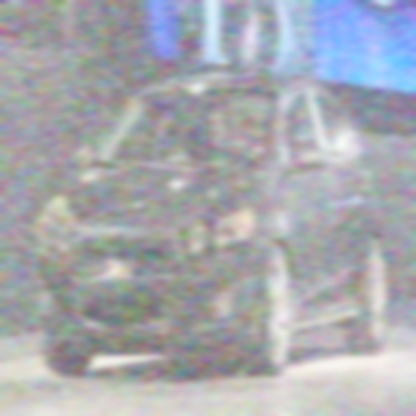Vehicle: (34, 71, 391, 374)
